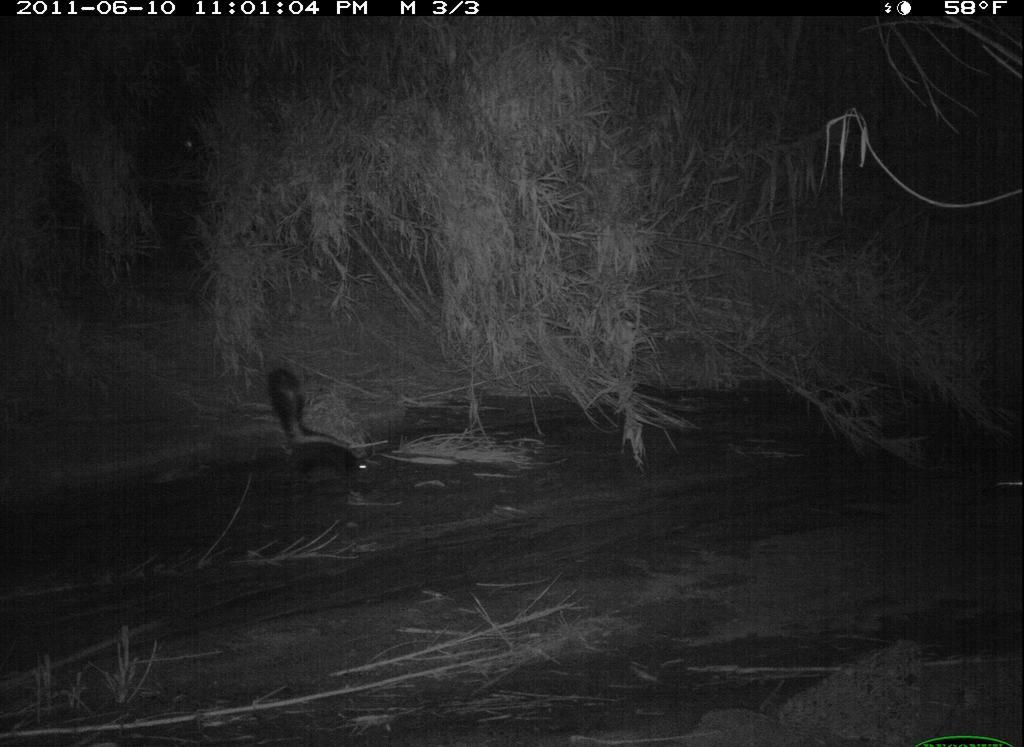skunk: (259, 360, 385, 492)
